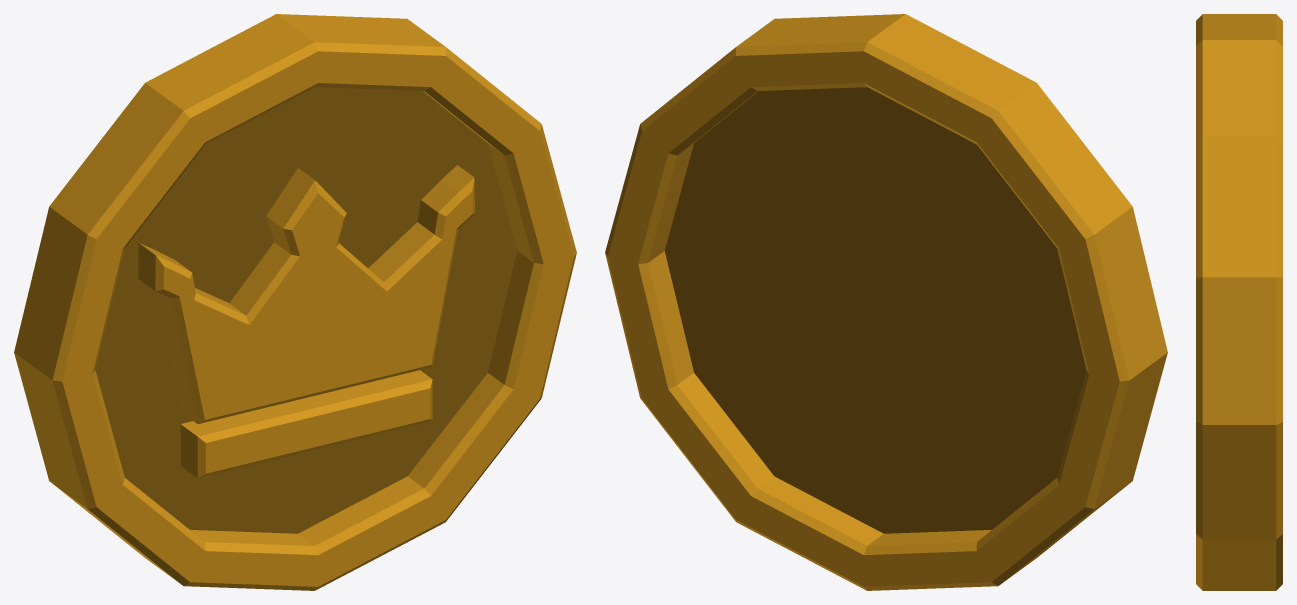
File: CROWN_COIN.obj
The picture shows the model from 3 angles, left to right: view 1: azimuth 30°, elevation 25°; view 2: azimuth 150°, elevation 25°; view 3: azimuth 270°, elevation 25°; orthographic projection. The views are drawn at different scales.
Visible parts, largest first — view 1: CROWN.001; view 2: CROWN.001; view 3: CROWN.001.
Part boxes in pixels (x1,y1,x2,y2): CROWN.001: (14, 14, 576, 590); CROWN.001: (605, 14, 1167, 590); CROWN.001: (1196, 14, 1282, 590).
Size of the model in its own units: 0.03 by 0.03 by 0.0045.
